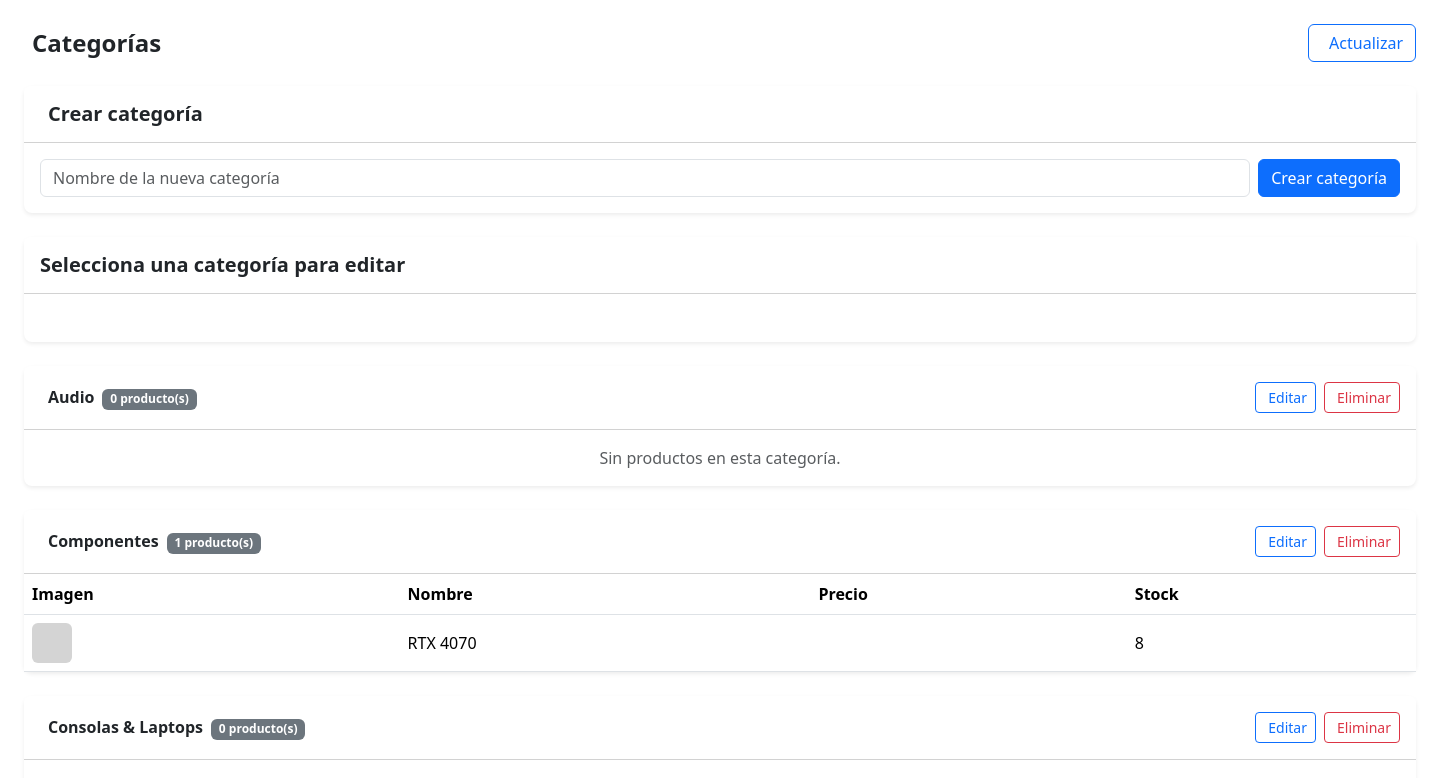
Scenario: AdminCategorias › crear › rechaza una categoría que ya existe
Type "Gaming Gear" into the field with placeholder "Nombre de la nueva categoría" at (645, 178), box [40,159,1250,197]
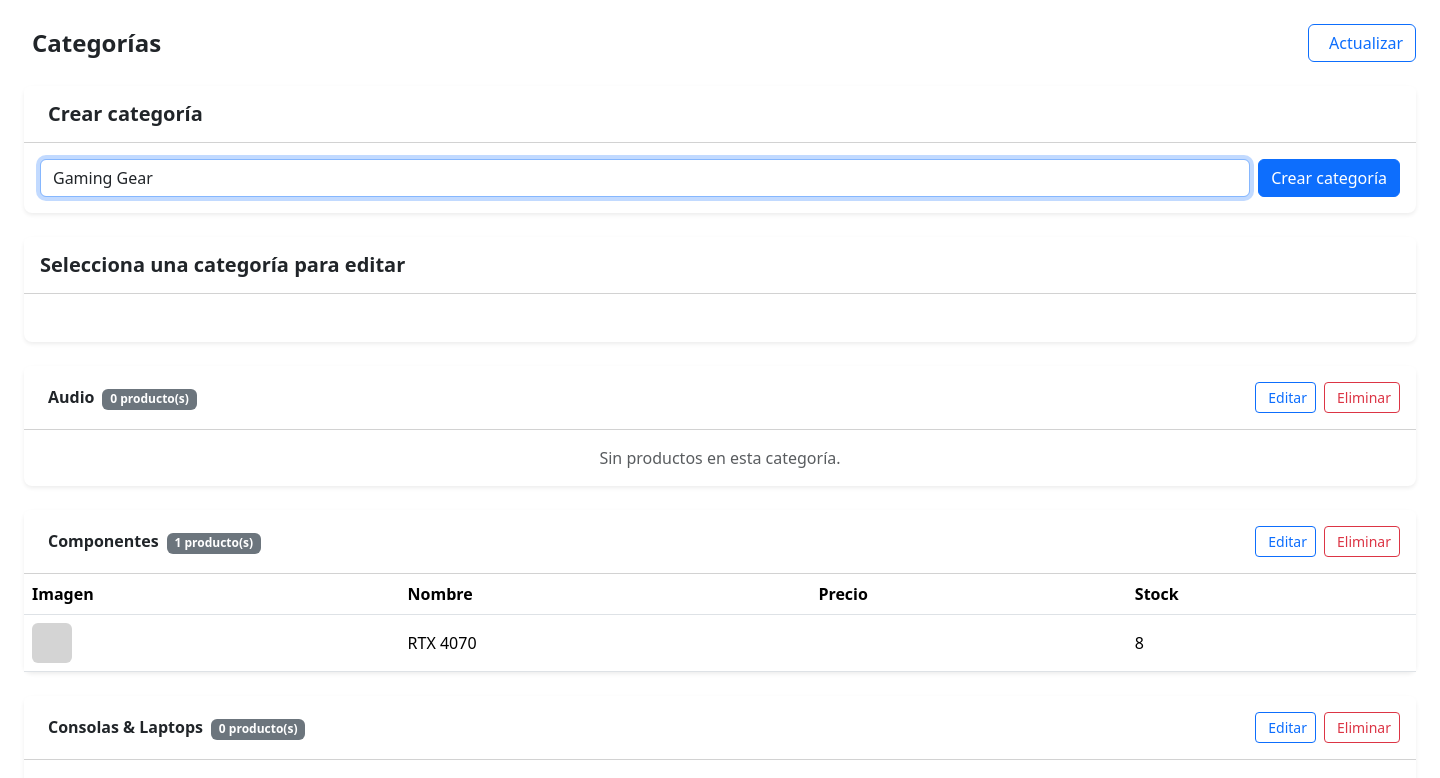
Click the button "Crear categoría" at (1329, 178), box [1258,159,1400,197]
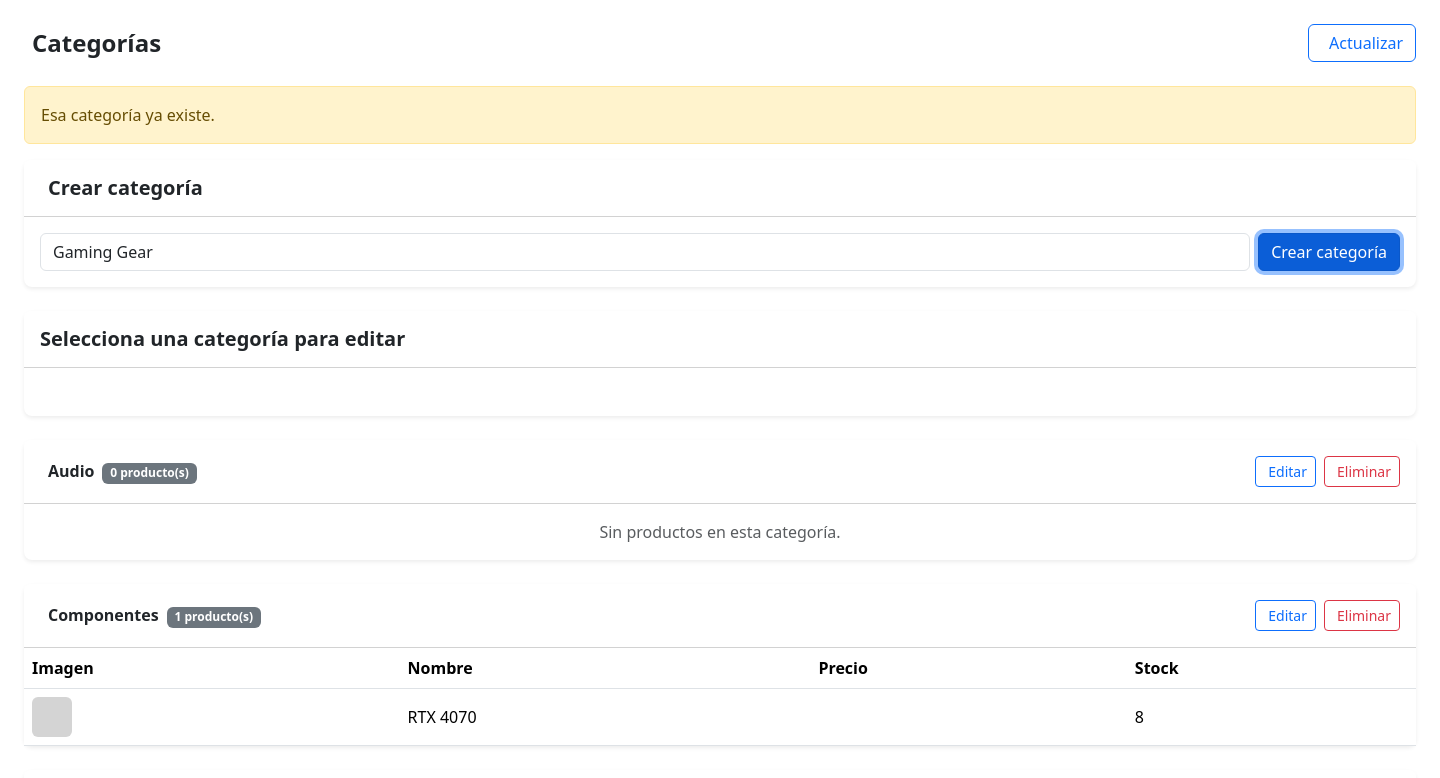
Expected: the text "Esa categoría ya existe." is shown, [24,86,1416,144]
